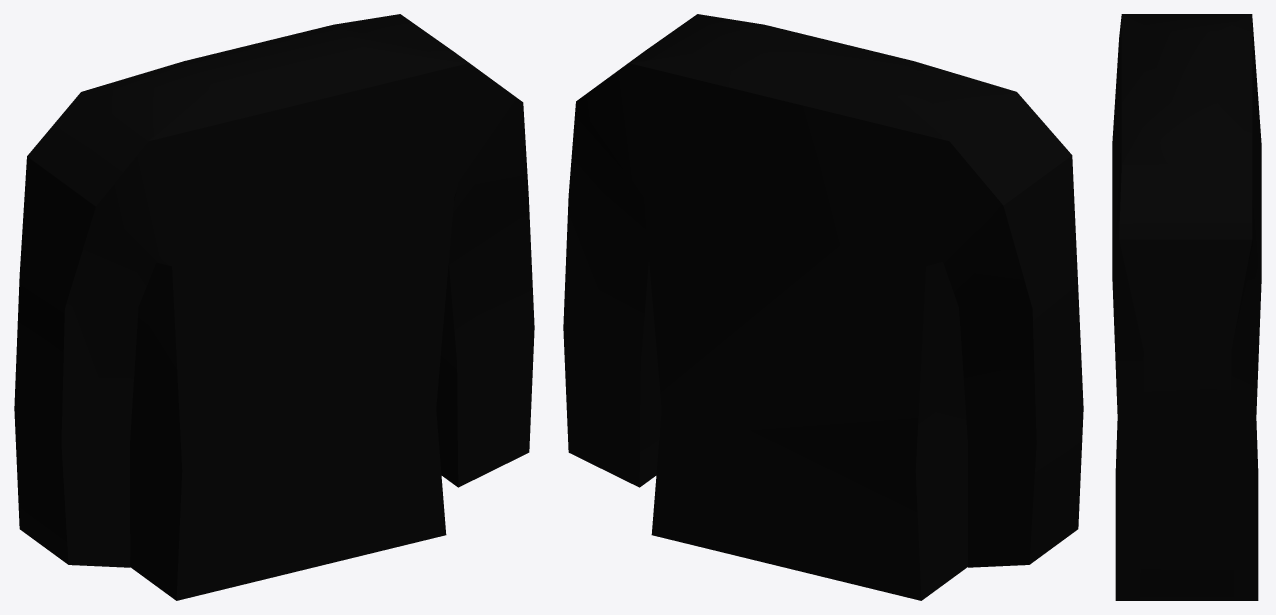
File: torsoTex.glb
3 renders of one model, left to right at view 1: azimuth 30°, elevation 25°; view 2: azimuth 150°, elevation 25°; view 3: azimuth 270°, elevation 25°, orthographic. The views are drawn at different scales.
Visible parts, largest first — view 1: node_id5; view 2: node_id5; view 3: node_id5.
Boxes of the visible parts, x1,y1,x2,y2 form: node_id5: [14, 14, 534, 600]; node_id5: [563, 14, 1083, 600]; node_id5: [1112, 14, 1261, 600].
Bounding box in the file's own units: 0.2376 × 0.2334 × 0.0672.
Materials: 1 (1 with a texture image).
